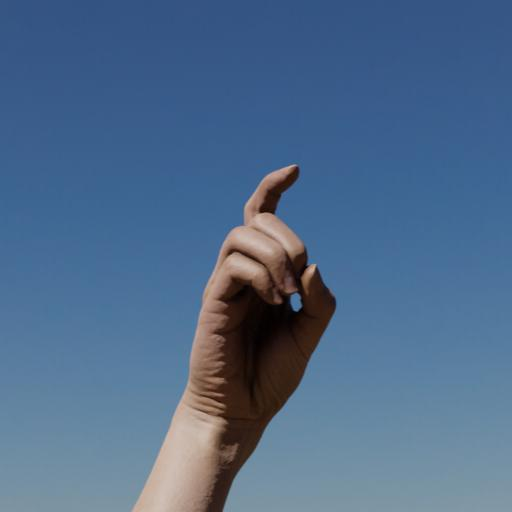X: (129, 152, 348, 512)
